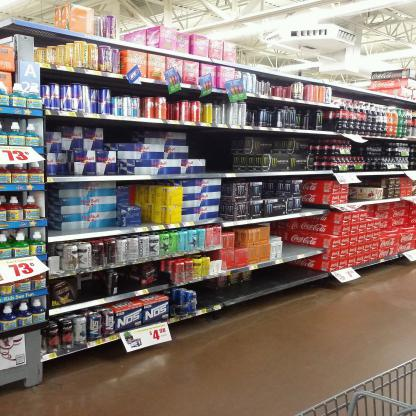Void: (204, 132, 232, 173), (281, 221, 315, 250), (255, 266, 317, 278), (105, 120, 137, 141), (121, 261, 138, 288), (188, 129, 202, 156), (83, 284, 103, 296), (365, 177, 384, 188)
